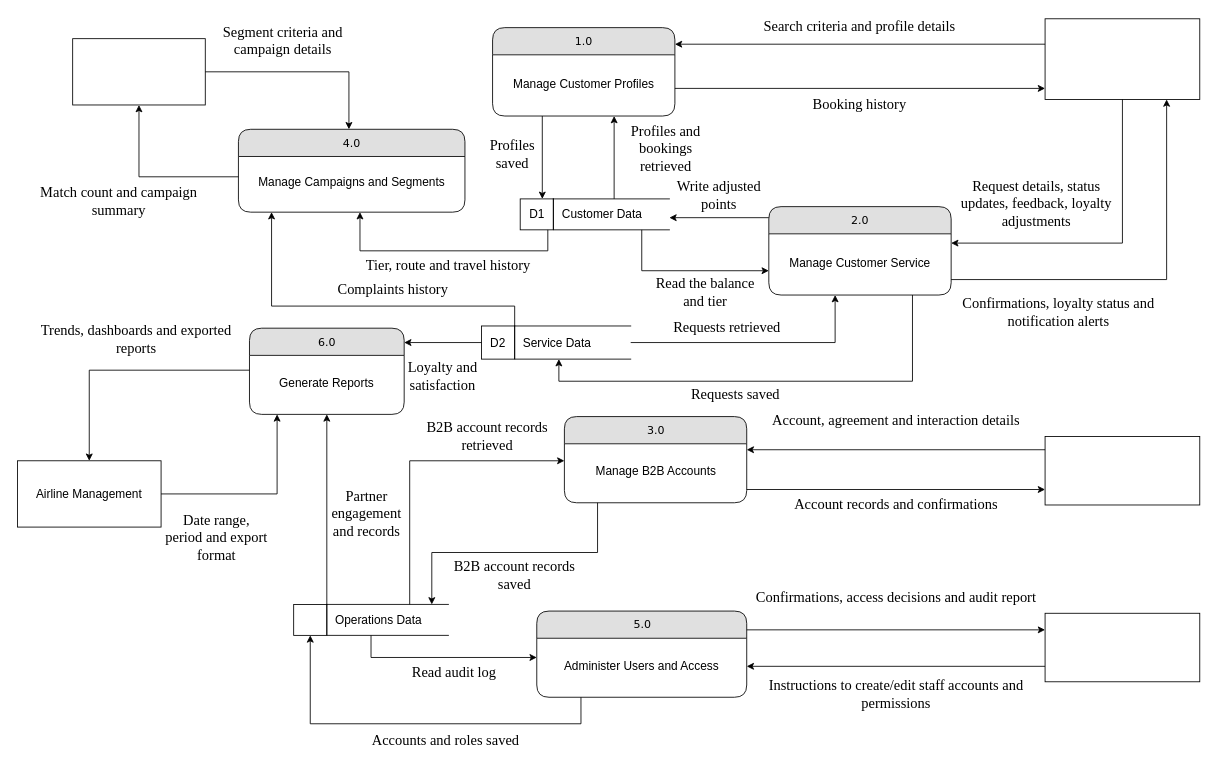
This 1216x768 diagram has some shape labels left out. Each missing label, with the centre of its shape:
"Account Manager" belongs at pixel 1122 470.
"CRM Administrator" belongs at pixel 1122 647.
"Customer Service Representative" belongs at pixel 1122 58.
"D3" belongs at pixel 310 619.
"Marketing Staff" belongs at pixel 138 71.
